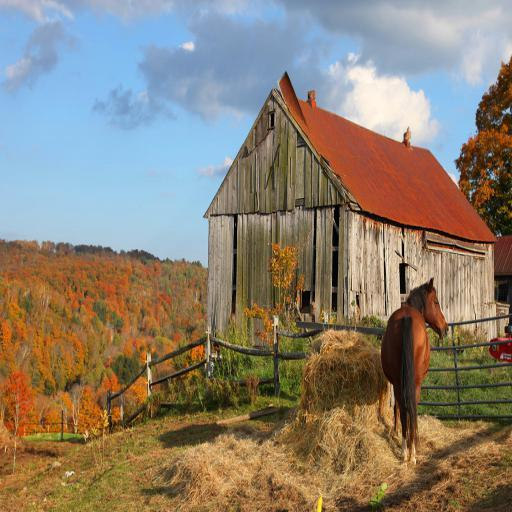horse: (380, 274, 450, 461)
